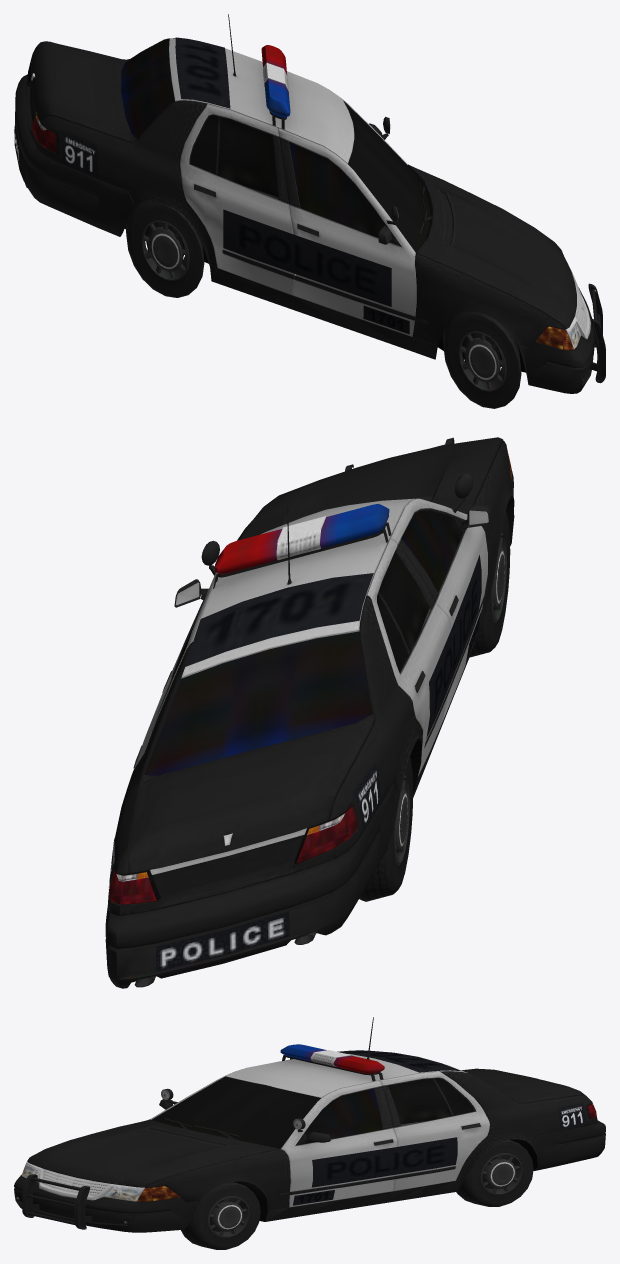
File: police.glb
3 renders of one model, top to bottom at view 1: azimuth 30°, elevation 25°; view 2: azimuth 150°, elevation 25°; view 3: azimuth 270°, elevation 25°, orthographic. The views are drawn at different scales.
Parts seen in each view (by area): view 1: police; view 2: police; view 3: police.
Part boxes in pixels (bbox=[...]): police: bbox=[14, 14, 605, 408]; police: bbox=[105, 437, 514, 988]; police: bbox=[14, 1017, 605, 1249].
Size of the model in its own units: 1.79 by 1.52 by 4.44.
Materials: 1 (1 with a texture image).
